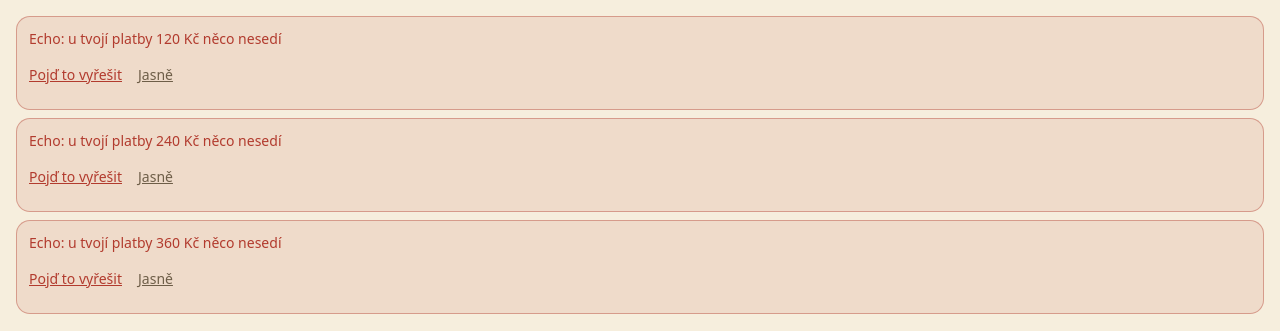
DisputeBanner › mixed dismissed/visible: dismissing one keeps the others visible
Check: the number of links is 3, box [29,65,122,84]; [29,167,122,186]; [29,269,122,288]
Note: Dismiss the first.
Click the button "Jasně" below "Echo: u tvojí platby 120 Kč něco nesedí".
click(155, 75)  # box [138,53,173,97]
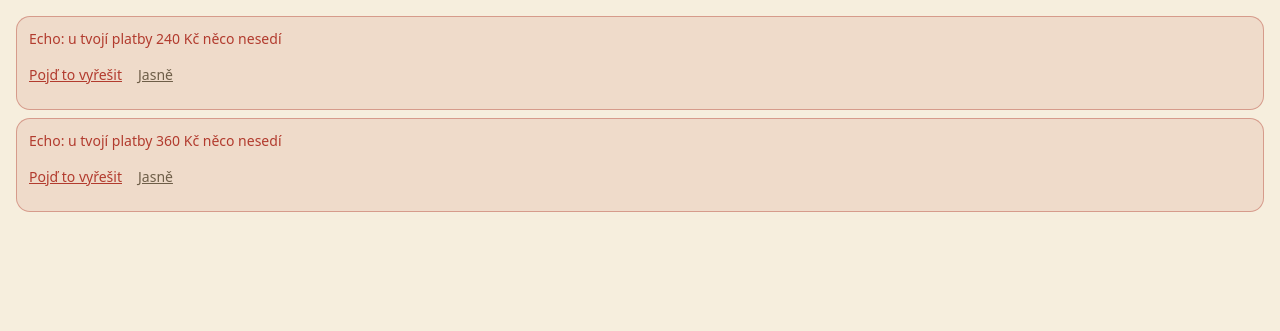
Check: the number of links is 2, box [29,65,122,84]; [29,167,122,186]
Check: the number of buttons is 2, box [138,53,173,97]; [138,155,173,199]
